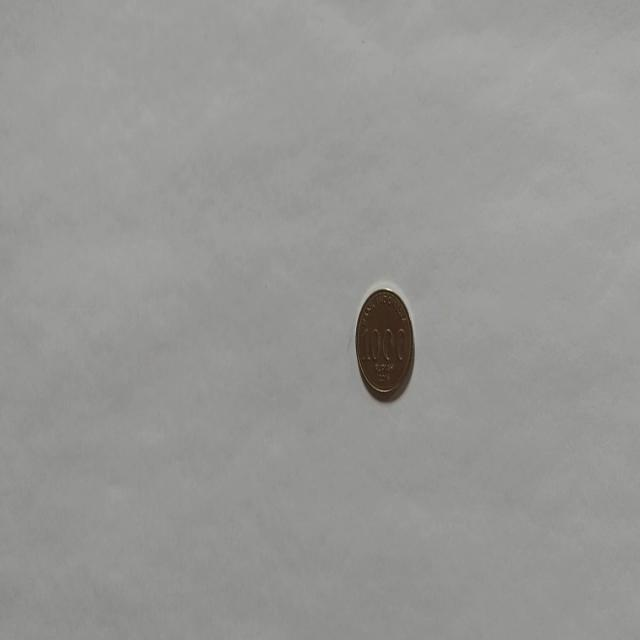seribu rupiah koin: (354, 283, 414, 401)
